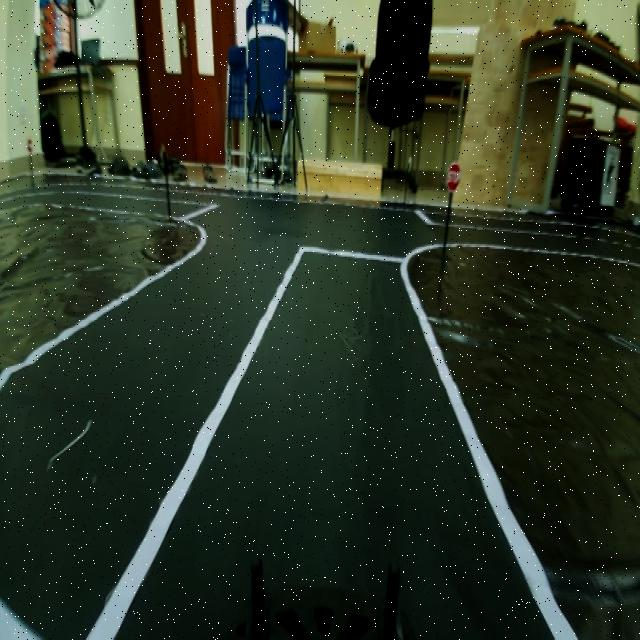stop: (440, 156, 464, 200)
